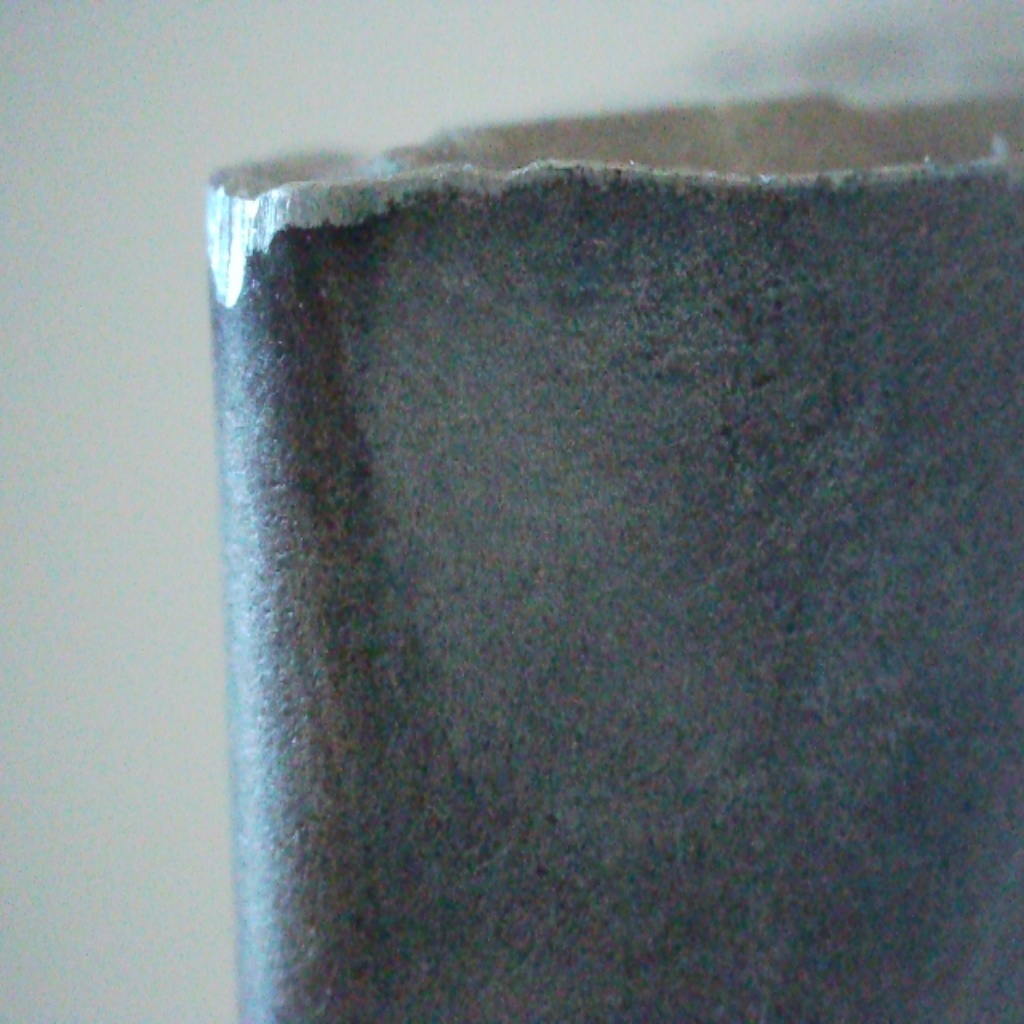flank_wear: (192, 175, 428, 317)
